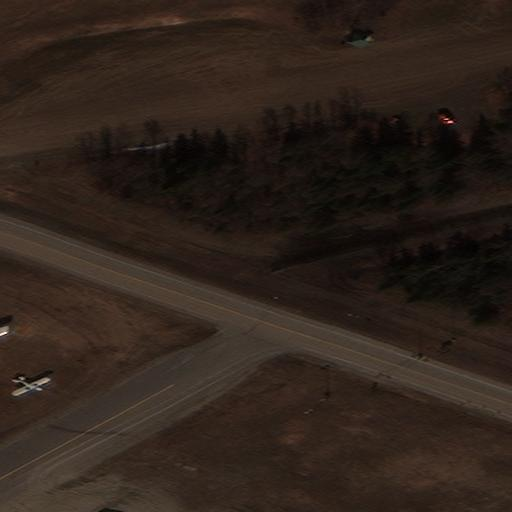Small Civil Transport: (15, 376, 50, 397)
